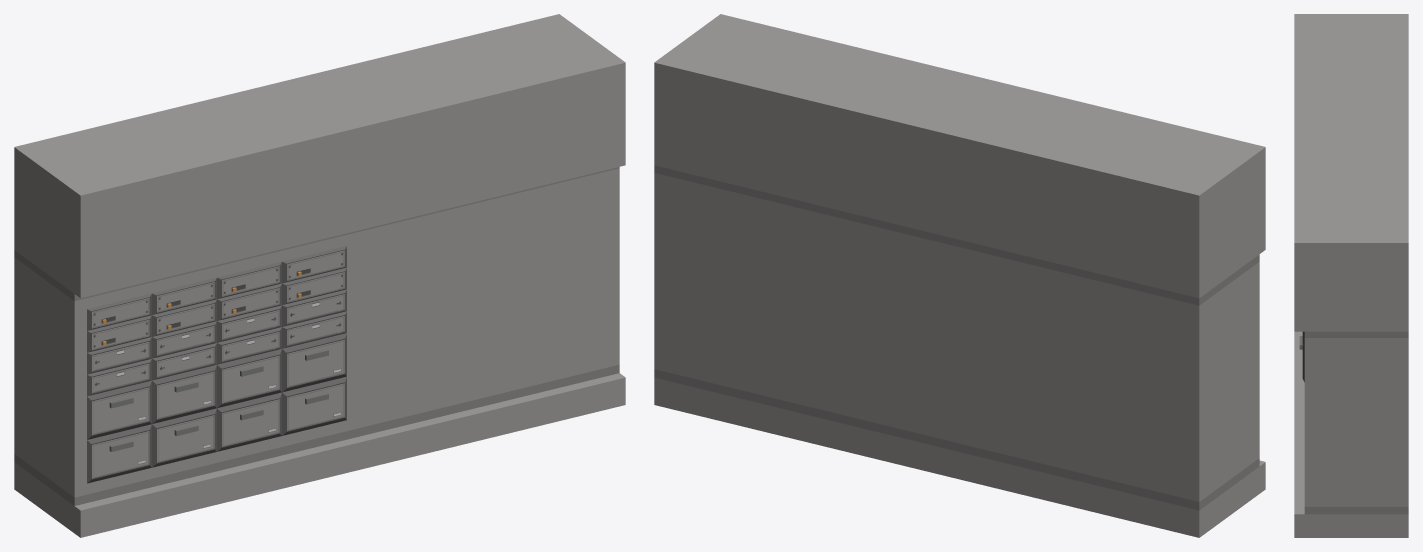
The model's file is Prop_SafeDepositBoxes_Half_02.glb.
3 views of the same model, side by side, from view 1: azimuth 30°, elevation 25°; view 2: azimuth 150°, elevation 25°; view 3: azimuth 270°, elevation 25° (orthographic). The views are drawn at different scales.
Visible parts, largest first — view 1: SM_Prop_SafeDepositBoxes_Half_02; view 2: SM_Prop_SafeDepositBoxes_Half_02; view 3: SM_Prop_SafeDepositBoxes_Half_02.
Part boxes in pixels (box(x1,y1,x2,y2)): SM_Prop_SafeDepositBoxes_Half_02: box(14, 14, 625, 537); SM_Prop_SafeDepositBoxes_Half_02: box(654, 14, 1265, 537); SM_Prop_SafeDepositBoxes_Half_02: box(1294, 14, 1408, 537).
Bounding box in the file's own units: 5 × 3 × 1.05.
Materials: 1 (1 with a texture image).
